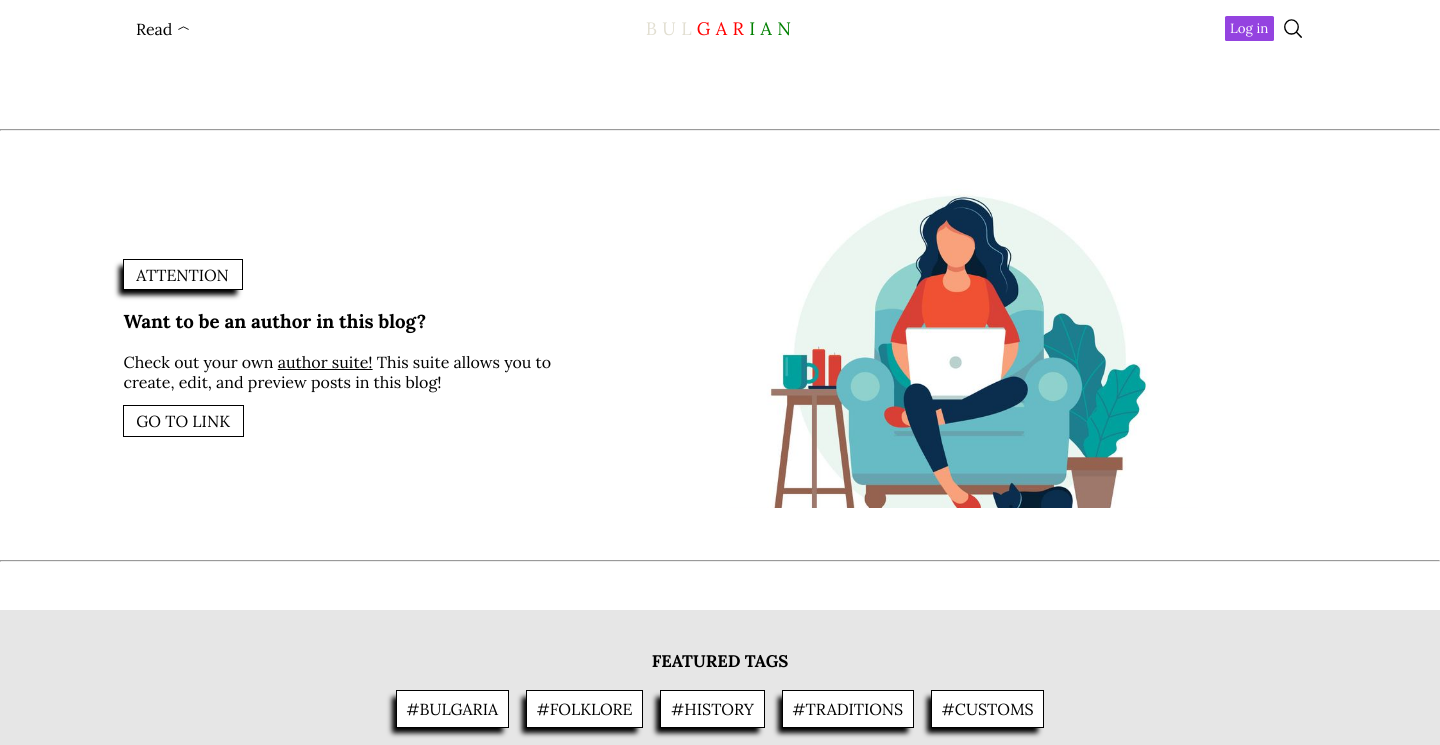
Test: Should render NavComponent › should navigate to LogInFormComponent
Click the button at (1249, 28), box [1225, 16, 1274, 41]
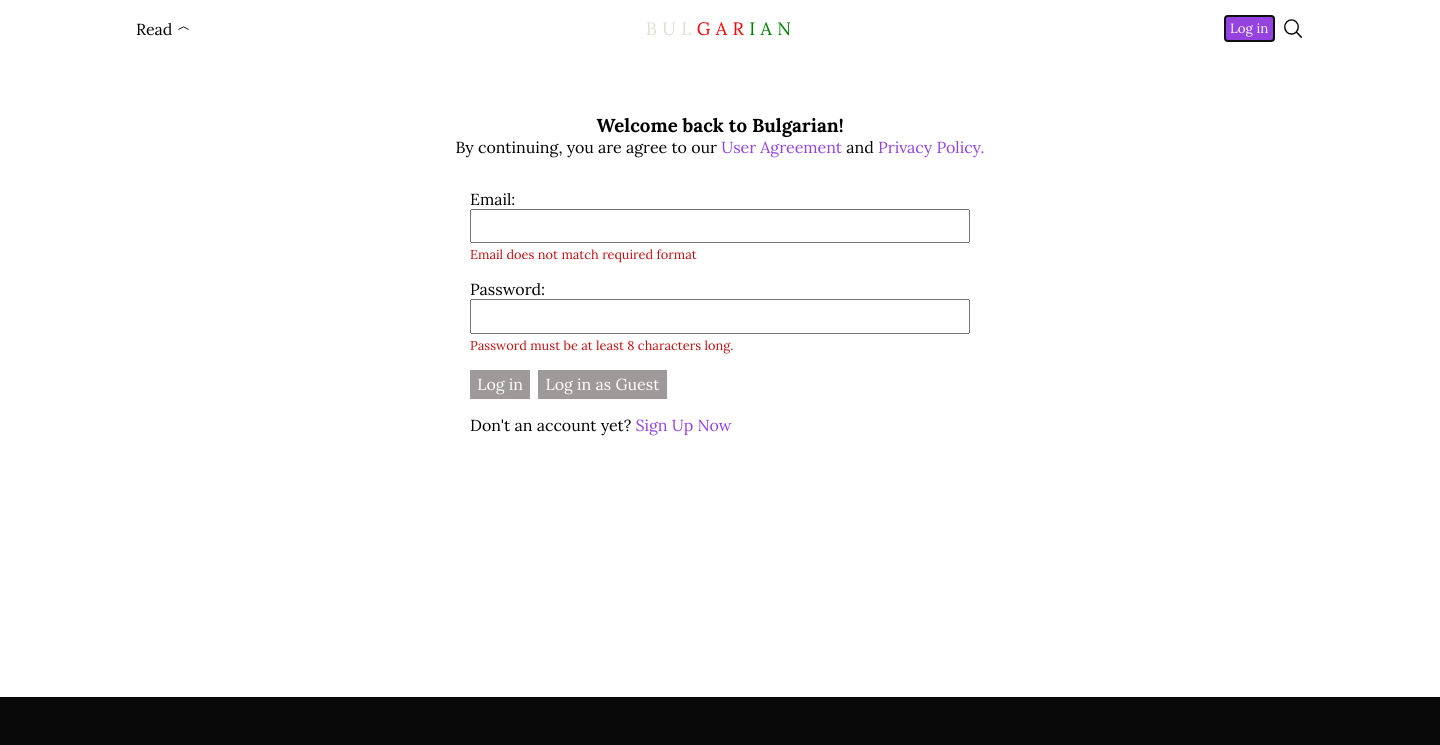
expect the heading "Welcome back to Bulgarian!" is shown: met, box [596, 113, 843, 137]
expect the element with test id "logInFormPrivacy" reads "By continuing, you are agree to our User Agreement and Privacy Policy.": met, box [456, 137, 984, 157]
expect the text "Email:" is shown: met, box [470, 189, 515, 209]
